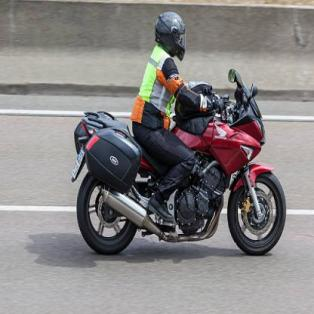Motocicleta: (71, 81, 287, 255)
